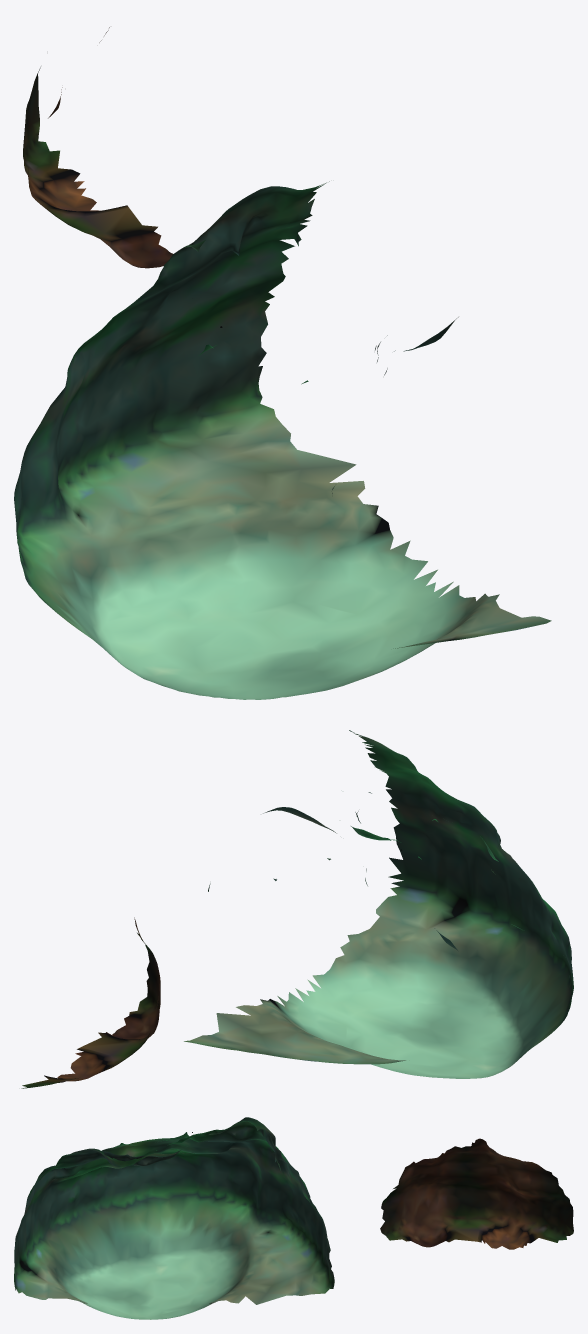
Rendered from prp_cave_rock_a_lite.glb.
3 views of the same model, one above another, from view 1: azimuth 30°, elevation 25°; view 2: azimuth 150°, elevation 25°; view 3: azimuth 270°, elevation 25° (orthographic). The views are drawn at different scales.
Parts seen in each view (by area): view 1: INST_prp_cave_rock_a_lite_rock; view 2: INST_prp_cave_rock_a_lite_rock; view 3: INST_prp_cave_rock_a_lite_rock.
Boxes of the visible parts, left/top/right/bottom form: INST_prp_cave_rock_a_lite_rock: left=14, top=27, right=551, bottom=699; INST_prp_cave_rock_a_lite_rock: left=21, top=730, right=573, bottom=1088; INST_prp_cave_rock_a_lite_rock: left=14, top=1117, right=573, bottom=1319.
Size of the model in its own units: 14.66 by 13.54 by 34.19.
